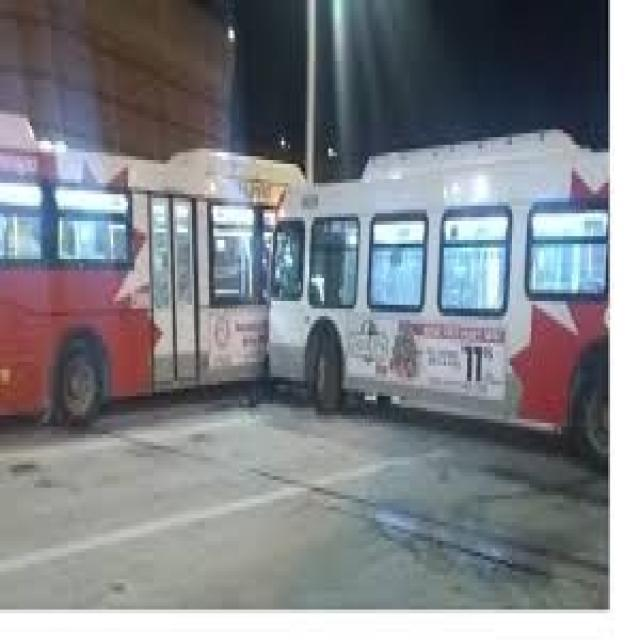accident: (166, 108, 413, 463)
